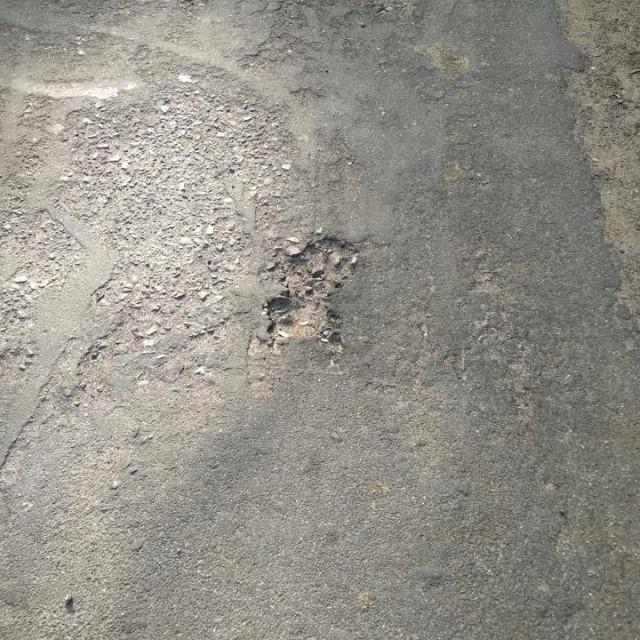pothole: (265, 238, 358, 345)
